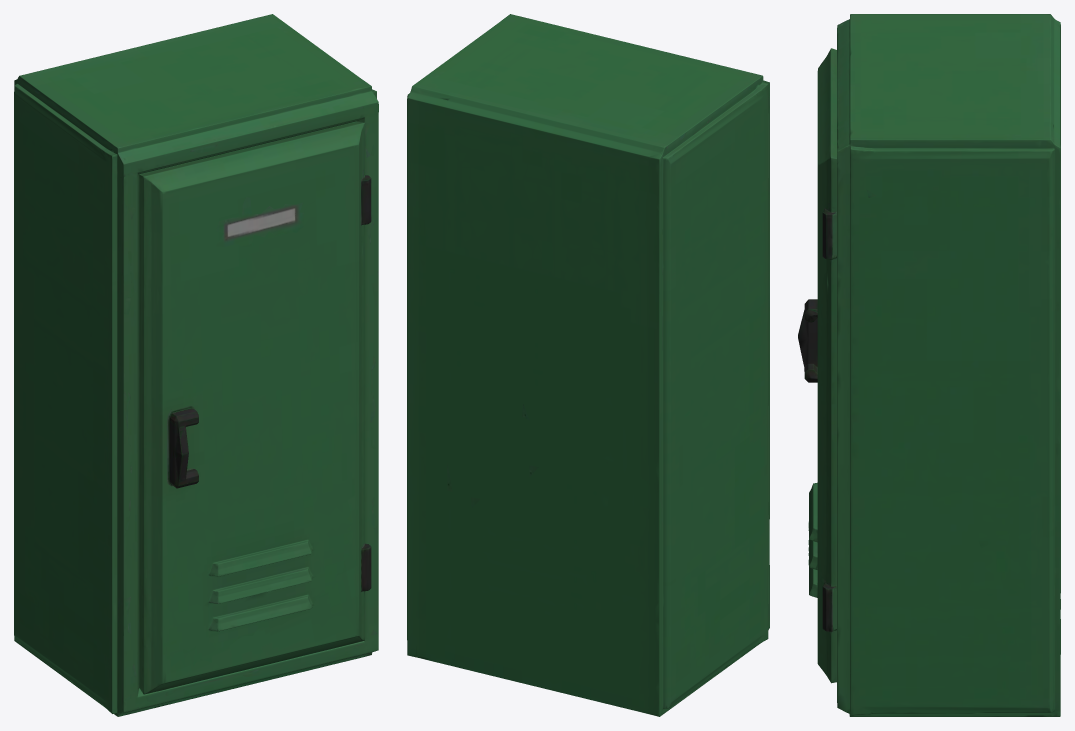
Rendered from cabinet.glb.
The picture shows the model from 3 angles, left to right: view 1: azimuth 30°, elevation 25°; view 2: azimuth 150°, elevation 25°; view 3: azimuth 270°, elevation 25°; orthographic projection.
Visible parts, largest first — view 1: node_id5; view 2: node_id5; view 3: node_id5.
Boxes of the visible parts, box(x1,y1,x2,y2) form: node_id5: box(14, 14, 378, 716); node_id5: box(407, 14, 769, 716); node_id5: box(798, 14, 1060, 716).
Size of the model in its own units: 0.2497 by 0.512 by 0.2113.
Materials: 1 (1 with a texture image).
